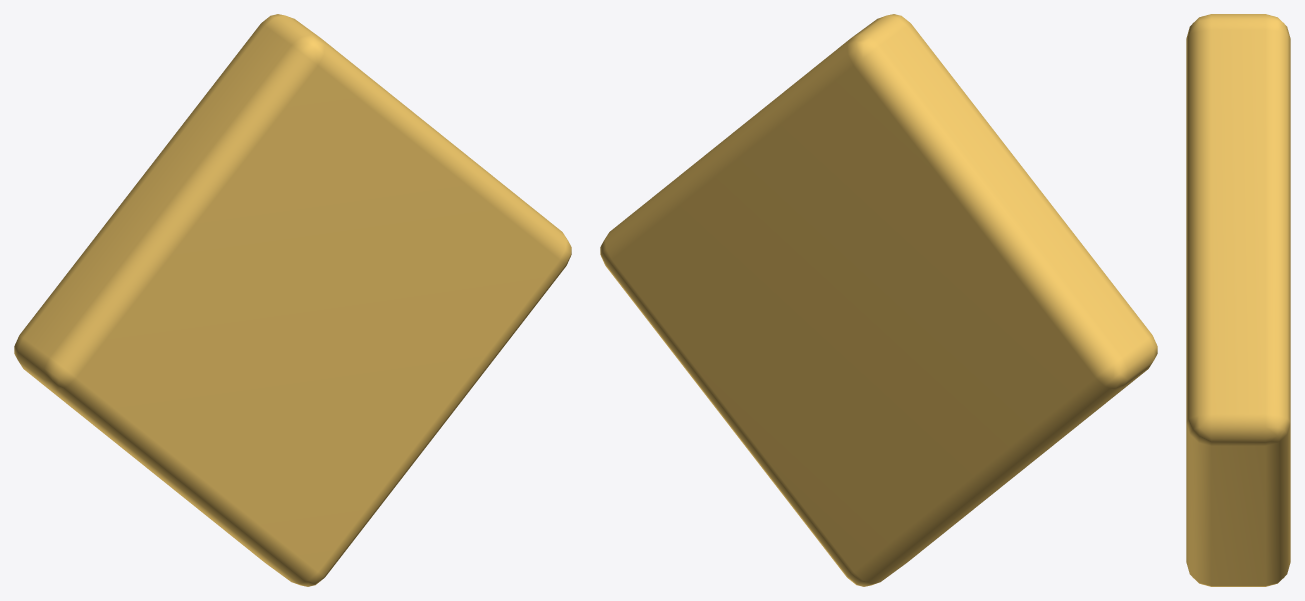
Rendered from shape-rhombus-yellow.glb.
The picture shows the model from 3 angles, left to right: view 1: azimuth 30°, elevation 25°; view 2: azimuth 150°, elevation 25°; view 3: azimuth 270°, elevation 25°; orthographic projection. The views are drawn at different scales.
Parts seen in each view (by area): view 1: solid rhombus; view 2: solid rhombus; view 3: solid rhombus.
Part boxes in pixels (x1,y1,x2,y2): solid rhombus: (14, 14, 571, 586); solid rhombus: (600, 14, 1157, 586); solid rhombus: (1186, 14, 1290, 586).
Size of the model in its own units: 1.5 by 1.5 by 0.25.
